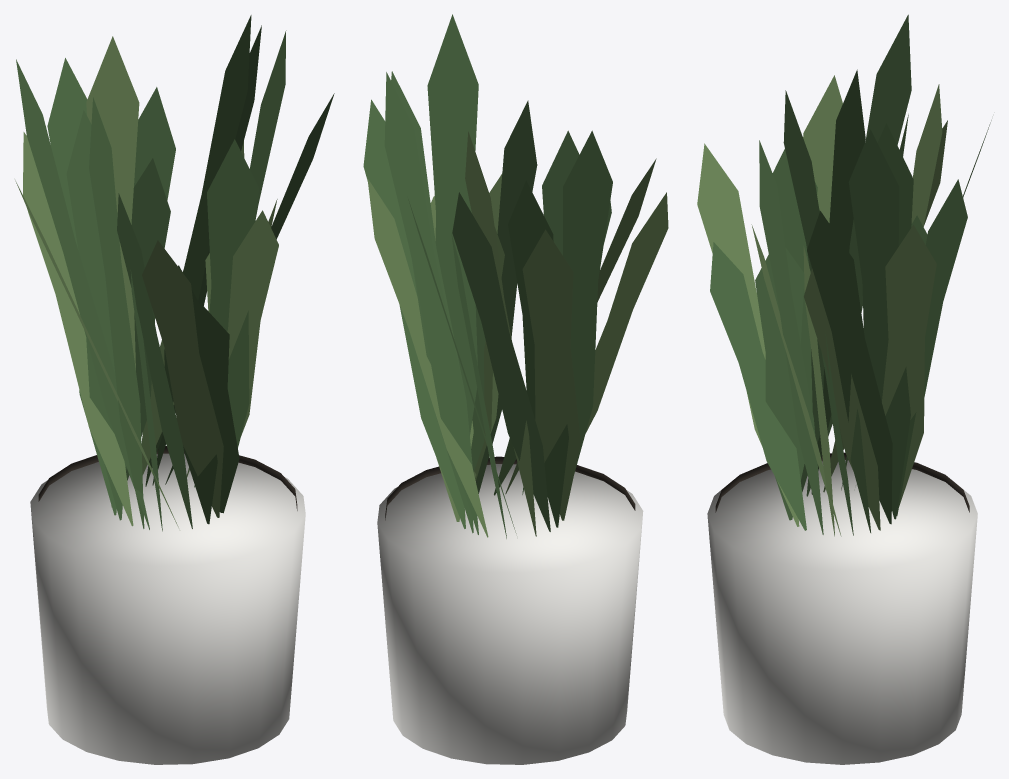
The model's file is Dining_Snake_Plant.glb.
3 renders of one model, left to right at view 1: azimuth 30°, elevation 25°; view 2: azimuth 150°, elevation 25°; view 3: azimuth 270°, elevation 25°, orthographic. The views are drawn at different scales.
Parts seen in each view (by area): view 1: root; view 2: root; view 3: root.
Part boxes in pixels (x1=…): root: x1=15, y1=15, x2=334, y2=764; root: x1=363, y1=14, x2=668, y2=764; root: x1=697, y1=14, x2=991, y2=764.
Size of the model in its own units: 0.3985 by 0.83 by 0.3353.
